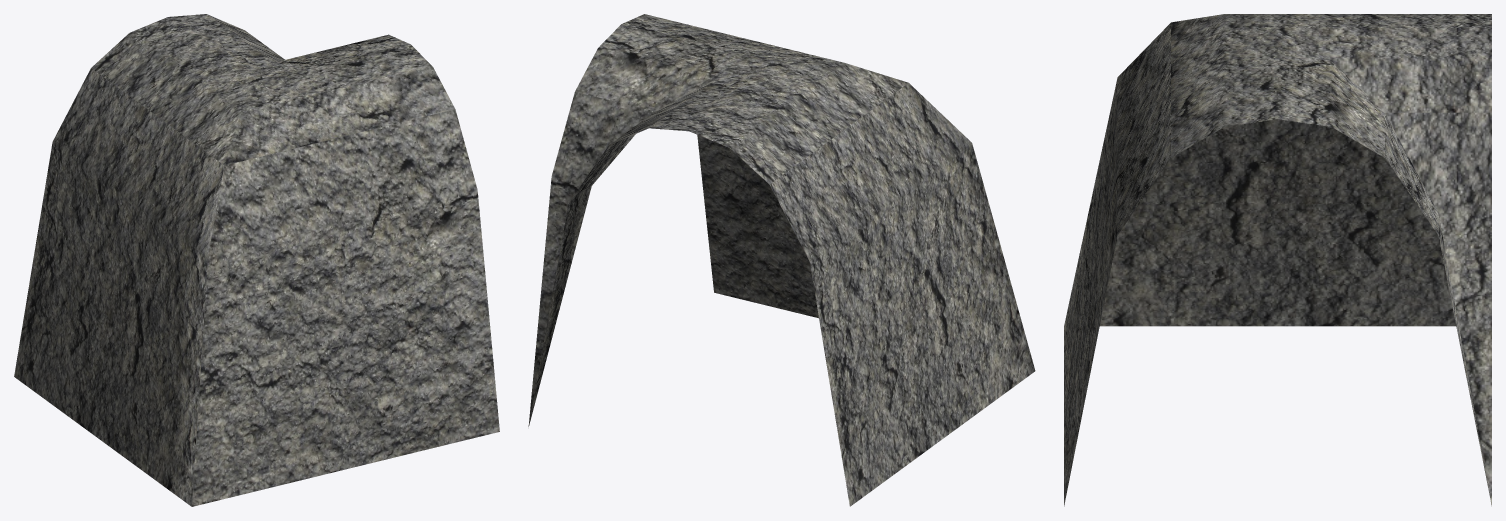
Rendered from Stone2a.obj.
3 views of the same model, side by side, from view 1: azimuth 30°, elevation 25°; view 2: azimuth 150°, elevation 25°; view 3: azimuth 270°, elevation 25° (orthographic). The views are drawn at different scales.
Visible parts, largest first — view 1: Grid_Grid.009_Grid_Grid.031; view 2: Grid_Grid.009_Grid_Grid.031; view 3: Grid_Grid.009_Grid_Grid.031.
Part boxes in pixels (x1=…): Grid_Grid.009_Grid_Grid.031: x1=14, y1=14, x2=499, y2=506; Grid_Grid.009_Grid_Grid.031: x1=528, y1=14, x2=1035, y2=506; Grid_Grid.009_Grid_Grid.031: x1=1064, y1=14, x2=1491, y2=506.
Bounding box in the file's own units: 1 × 1 × 1.
